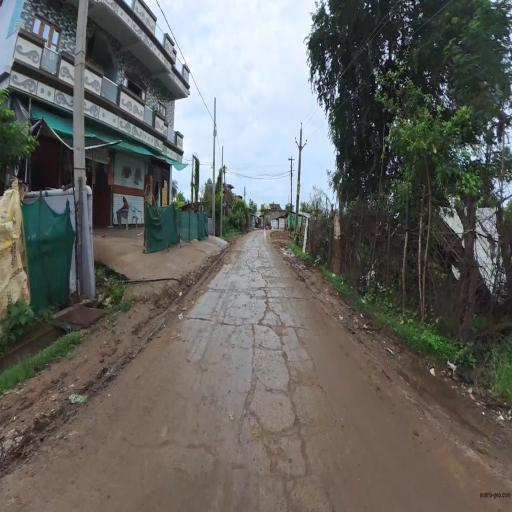alligator_crack: (222, 255, 328, 499)
